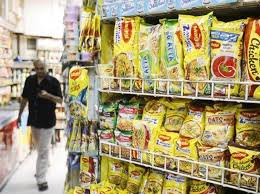maggie: (179, 15, 211, 96), (114, 19, 141, 90), (156, 133, 176, 169)
